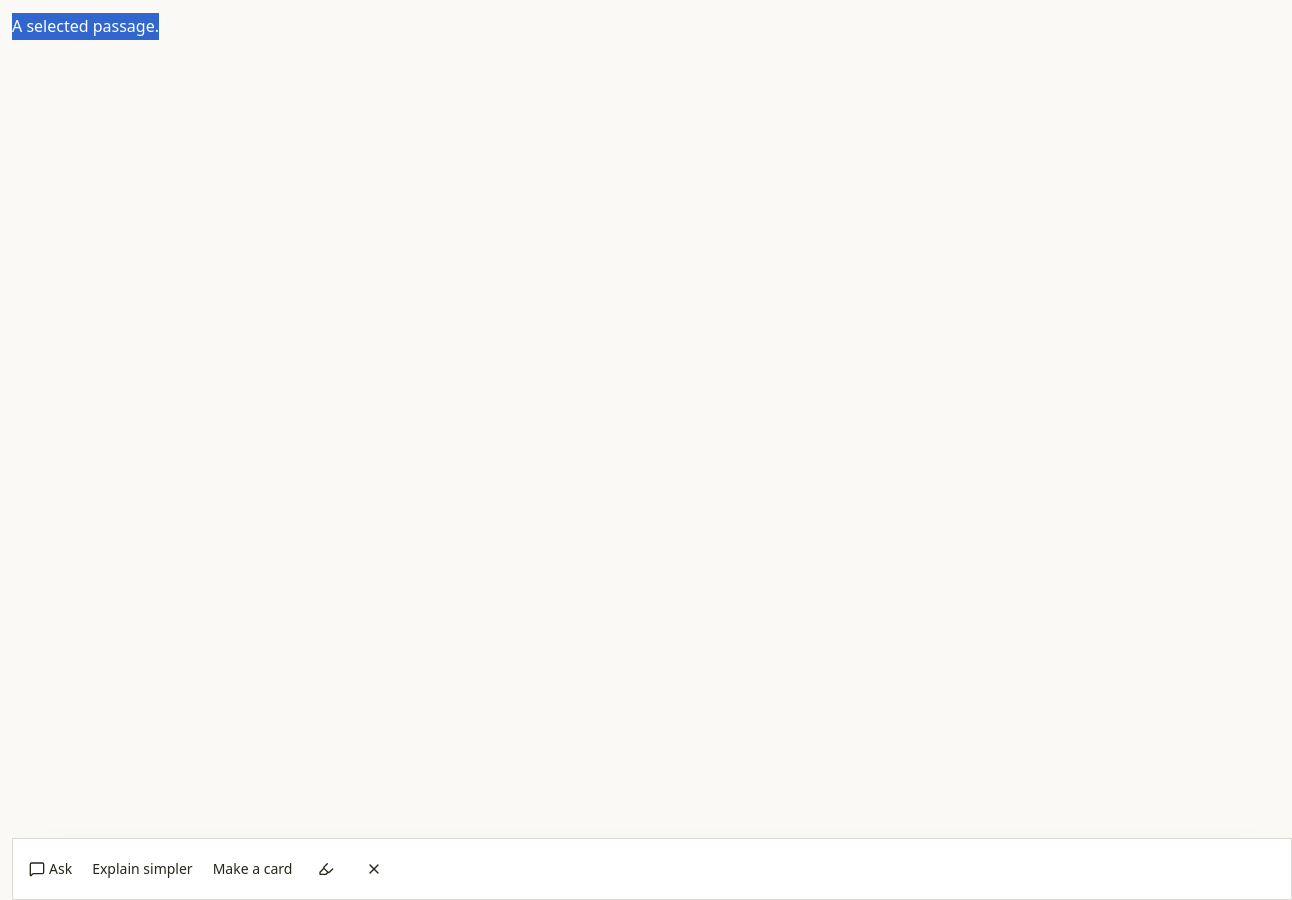
it: keeps the colour picker open after the selection toolbar receives mouseup or touchend
Click the button named "Highlight selection" at point(326, 869), box [304,847,348,891]
Wait 350 ms
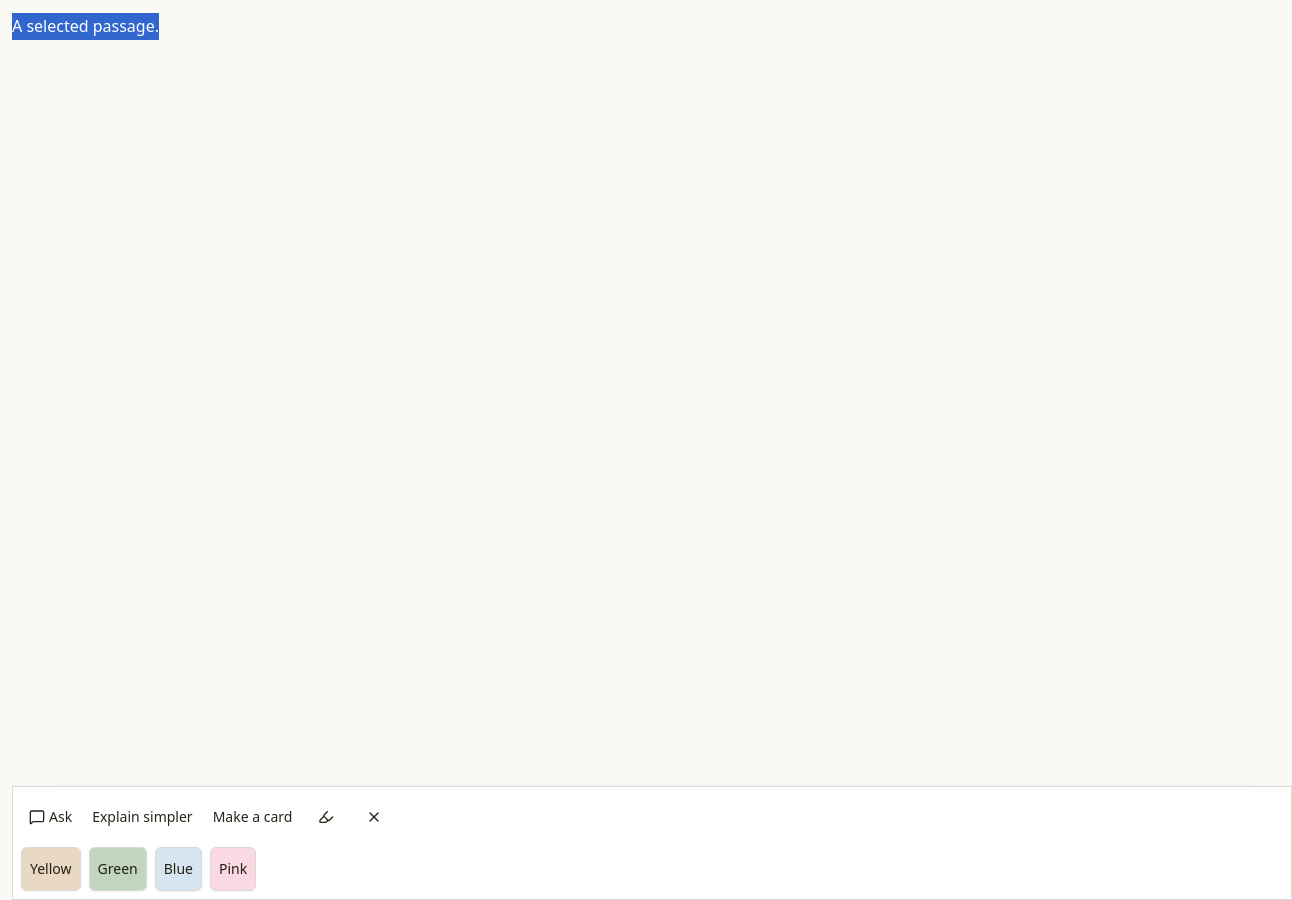
Now the button with aria-label "Highlight yellow" is shown, box [21,847,80,891]
